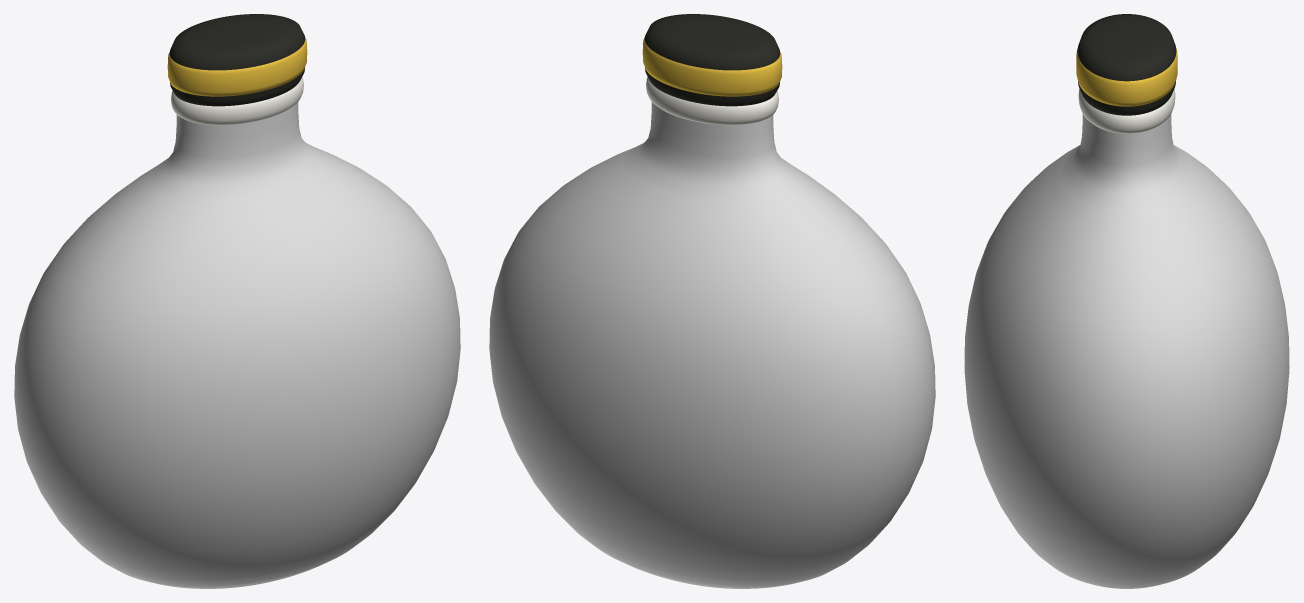
Rendered from potion-form.glb.
3 views of the same model, side by side, from view 1: azimuth 30°, elevation 25°; view 2: azimuth 150°, elevation 25°; view 3: azimuth 270°, elevation 25° (orthographic). The views are drawn at different scales.
Visible parts, largest first — view 1: Bottle | hollow glass shell, Stopper | charcoal edging, Stopper | golden inset, Bottle | cream neck rim; view 2: Bottle | hollow glass shell, Stopper | charcoal edging, Stopper | golden inset, Bottle | cream neck rim; view 3: Bottle | hollow glass shell, Stopper | charcoal edging, Stopper | golden inset, Bottle | cream neck rim.
Part boxes in pixels (box(x1,y1,x2,y2)): Bottle | hollow glass shell: box(14, 102, 460, 588); Stopper | charcoal edging: box(169, 14, 305, 106); Stopper | golden inset: box(167, 37, 307, 96); Bottle | cream neck rim: box(171, 77, 303, 125); Bottle | hollow glass shell: box(489, 102, 935, 588); Stopper | charcoal edging: box(644, 14, 780, 106); Stopper | golden inset: box(642, 37, 782, 96); Bottle | cream neck rim: box(646, 77, 778, 125); Bottle | hollow glass shell: box(964, 114, 1289, 588); Stopper | charcoal edging: box(1077, 14, 1176, 115); Stopper | golden inset: box(1076, 48, 1177, 106); Bottle | cream neck rim: box(1078, 88, 1175, 133).
Size of the model in its own units: 1.84 by 2.23 by 1.29.
